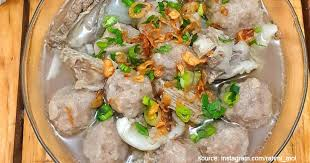bakso: (43, 13, 289, 163)
